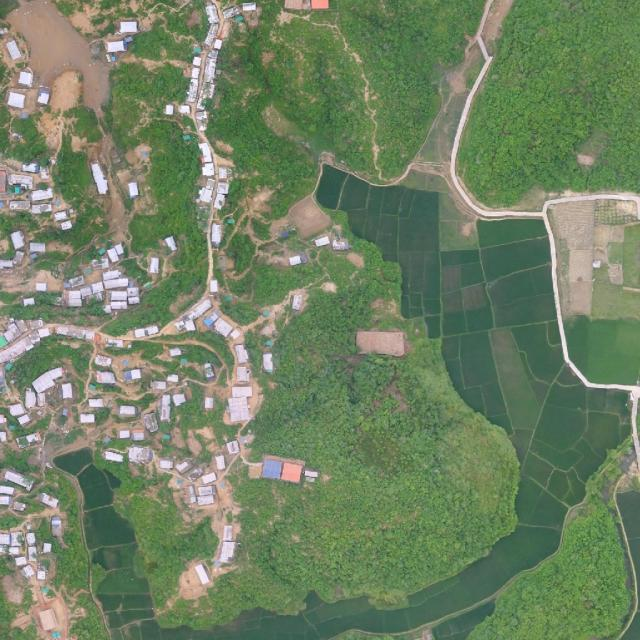agricultural_land: (56, 441, 165, 640), (564, 315, 640, 384), (616, 491, 640, 639)
building: (0, 324, 53, 367), (0, 531, 47, 579), (182, 472, 219, 508), (30, 363, 68, 397), (3, 229, 31, 271), (63, 282, 106, 309), (101, 288, 141, 314), (186, 55, 206, 104), (227, 386, 253, 422), (181, 297, 214, 325), (89, 161, 111, 196), (2, 468, 35, 491), (0, 317, 29, 343), (55, 324, 96, 342), (196, 81, 217, 112), (14, 428, 42, 451), (205, 4, 220, 46), (212, 180, 231, 211), (196, 176, 216, 204), (281, 461, 303, 484), (261, 458, 283, 480), (105, 243, 128, 264), (211, 317, 234, 338), (38, 608, 58, 632), (4, 39, 23, 61), (203, 56, 215, 90), (194, 562, 211, 586), (128, 446, 153, 462), (6, 91, 27, 110), (37, 493, 59, 510), (142, 412, 159, 434), (219, 541, 235, 563), (101, 449, 124, 464), (203, 310, 222, 328), (175, 459, 195, 476), (102, 277, 129, 289), (170, 390, 188, 408), (193, 111, 208, 132), (199, 142, 213, 164), (164, 234, 181, 252), (18, 68, 34, 87), (236, 343, 250, 364), (106, 40, 127, 53), (29, 242, 46, 258), (118, 21, 138, 34), (160, 395, 170, 421), (222, 6, 240, 20), (91, 257, 109, 271), (68, 275, 86, 289), (96, 372, 117, 384), (122, 369, 141, 382), (21, 162, 41, 174), (104, 337, 124, 349), (37, 89, 51, 106), (8, 404, 25, 418), (332, 238, 350, 251), (131, 429, 147, 443), (236, 366, 250, 382), (313, 235, 330, 248), (102, 270, 122, 281), (51, 516, 61, 538), (118, 405, 138, 416), (226, 440, 240, 455), (25, 389, 36, 408), (127, 182, 139, 199), (204, 362, 215, 380), (158, 459, 174, 471), (222, 525, 233, 542), (38, 166, 50, 181), (215, 454, 226, 470), (150, 379, 166, 390), (95, 355, 111, 366), (149, 257, 159, 274), (145, 325, 159, 337), (80, 413, 95, 424), (292, 294, 302, 310), (230, 328, 242, 341), (288, 255, 301, 267), (61, 384, 71, 399), (174, 320, 186, 332), (168, 347, 181, 358), (303, 470, 319, 478), (242, 2, 256, 11), (89, 399, 103, 408), (185, 320, 196, 331), (61, 220, 73, 230), (119, 430, 131, 440), (30, 320, 43, 329), (205, 397, 214, 410), (0, 486, 14, 494), (164, 104, 174, 115), (178, 105, 190, 114), (219, 167, 228, 179), (166, 374, 179, 382), (214, 39, 223, 50), (135, 329, 146, 338), (38, 392, 45, 406), (0, 335, 8, 347), (0, 414, 8, 425), (0, 431, 8, 442)
dryland: (0, 0, 126, 126)
greenland: (106, 58, 215, 328), (123, 476, 232, 610), (50, 474, 89, 593)
metalled_road: (414, 0, 543, 235)
